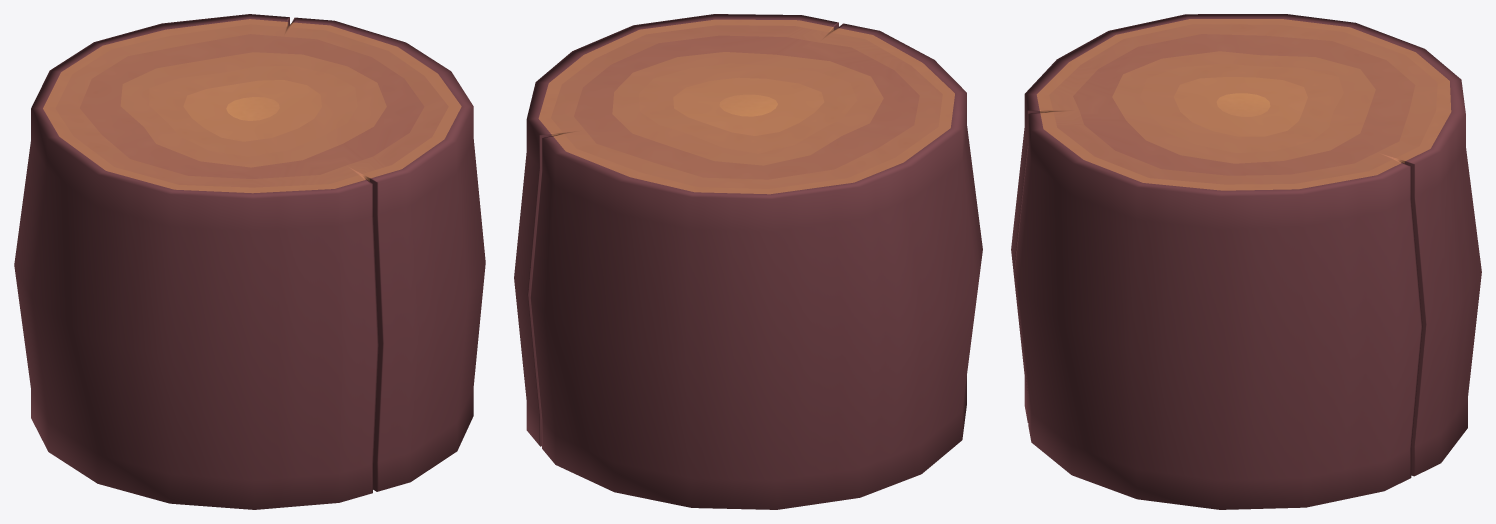
Rendered from Stool_004.glb.
3 views of the same model, side by side, from view 1: azimuth 30°, elevation 25°; view 2: azimuth 150°, elevation 25°; view 3: azimuth 270°, elevation 25° (orthographic).
Parts seen in each view (by area): view 1: Cylinder.005; view 2: Cylinder.005; view 3: Cylinder.005.
Part boxes in pixels (left/top/right/bottom): Cylinder.005: left=14, top=14, right=485, bottom=509; Cylinder.005: left=514, top=14, right=982, bottom=509; Cylinder.005: left=1011, top=14, right=1481, bottom=509.
Bounding box in the file's own units: 2.01 × 1.49 × 2.04.
1 material, 1 textured.
